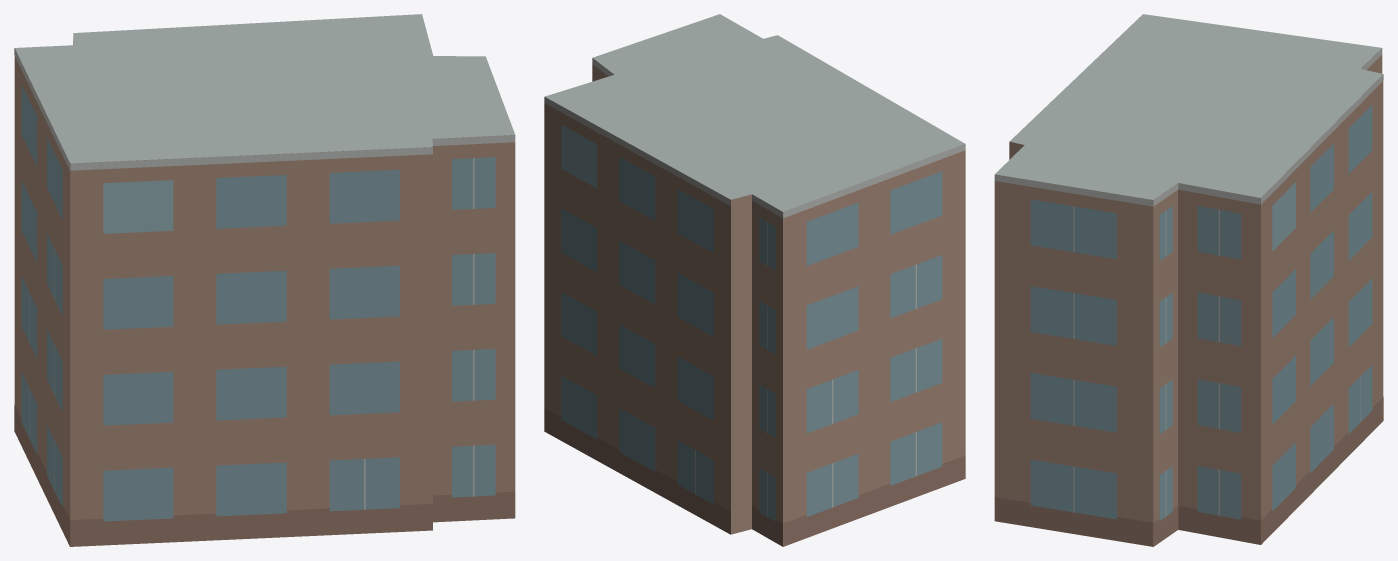
File: survey-upis-32877507.glb
3 renders of one model, left to right at view 1: azimuth 30°, elevation 25°; view 2: azimuth 150°, elevation 25°; view 3: azimuth 270°, elevation 25°, orthographic. The views are drawn at different scales.
Visible parts, largest first — view 1: survey-upis-32877507.tmp; view 2: survey-upis-32877507.tmp; view 3: survey-upis-32877507.tmp.
Part boxes in pixels (box(x1,y1,x2,y2)): survey-upis-32877507.tmp: box(14, 14, 515, 546); survey-upis-32877507.tmp: box(544, 14, 965, 546); survey-upis-32877507.tmp: box(994, 14, 1383, 546).
Size of the model in its own units: 14.73 by 12.8 by 13.01.
